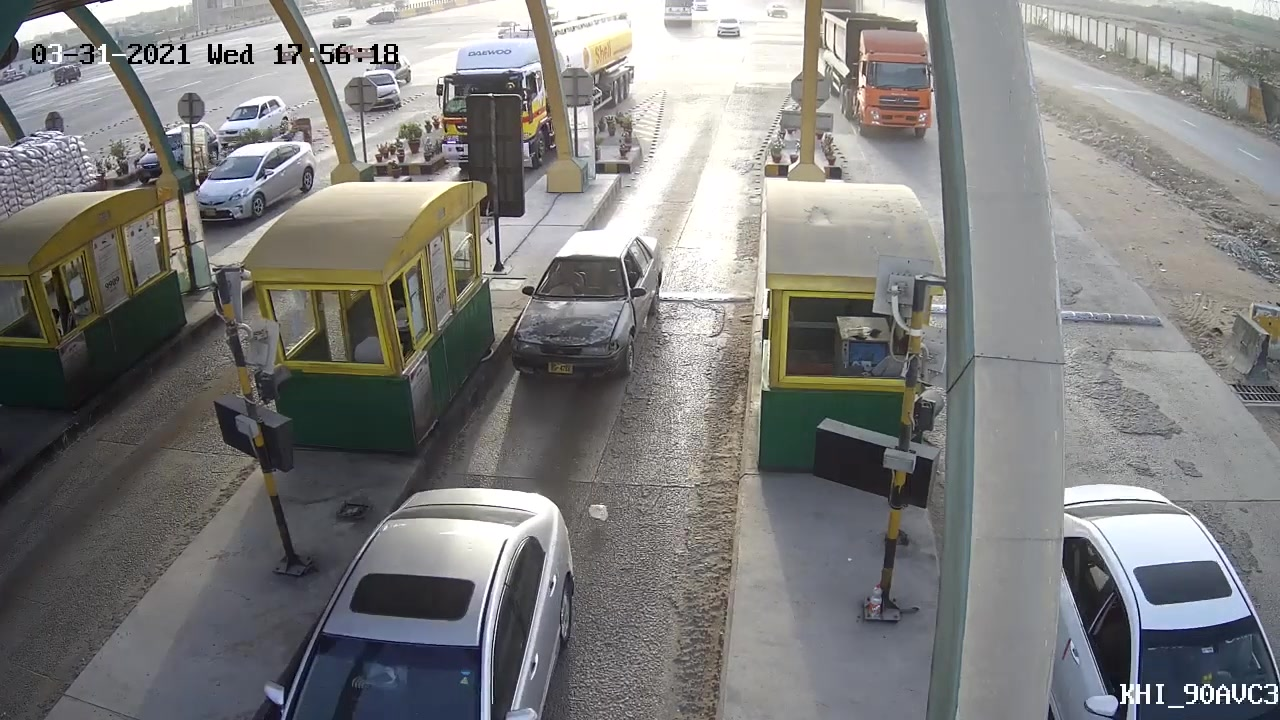F1: (507, 226, 667, 382)
